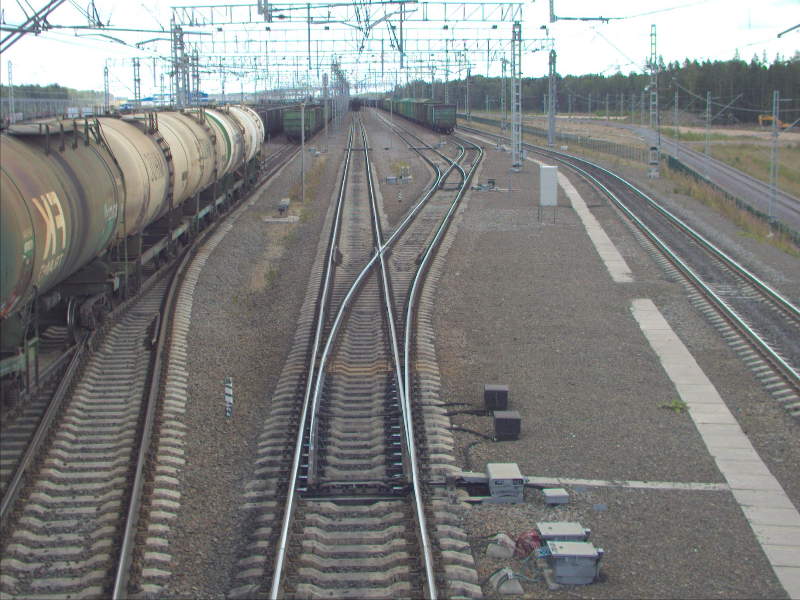left: (293, 242, 419, 485), (432, 157, 468, 190)
